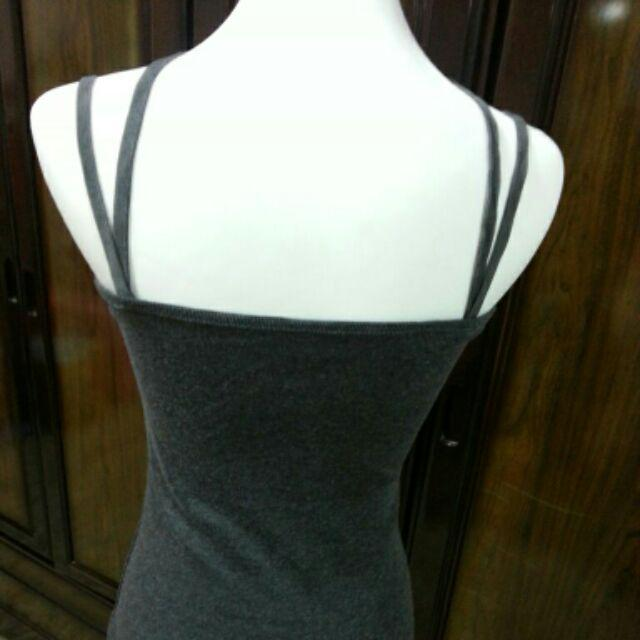Tops: (68, 62, 524, 640)
